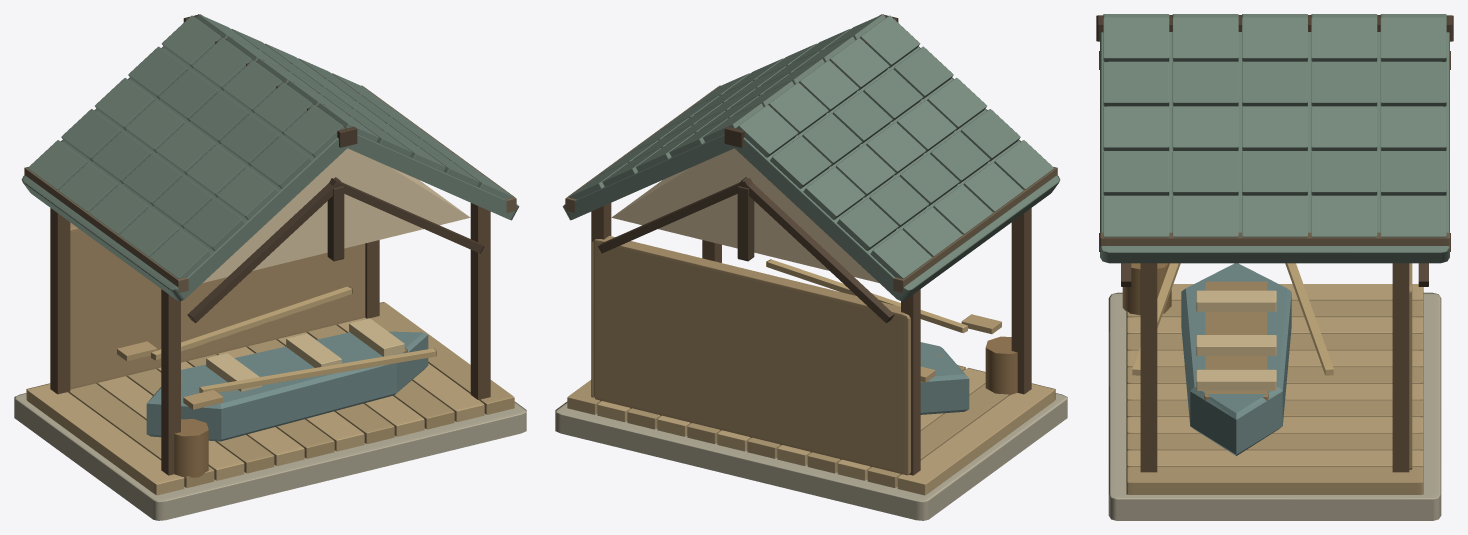
File: boathouse-0.glb
3 renders of one model, left to right at view 1: azimuth 30°, elevation 25°; view 2: azimuth 150°, elevation 25°; view 3: azimuth 270°, elevation 25°, orthographic. The views are drawn at different scales.
Visible parts, largest first — view 1: boathouse-0-0; view 2: boathouse-0-0; view 3: boathouse-0-0.
Boxes of the visible parts, <box> form: boathouse-0-0: <box>14,14,526,520</box>; boathouse-0-0: <box>555,14,1067,520</box>; boathouse-0-0: <box>1096,14,1453,520</box>.
Bounding box in the file's own units: 2.8 × 2.54 × 2.04.
